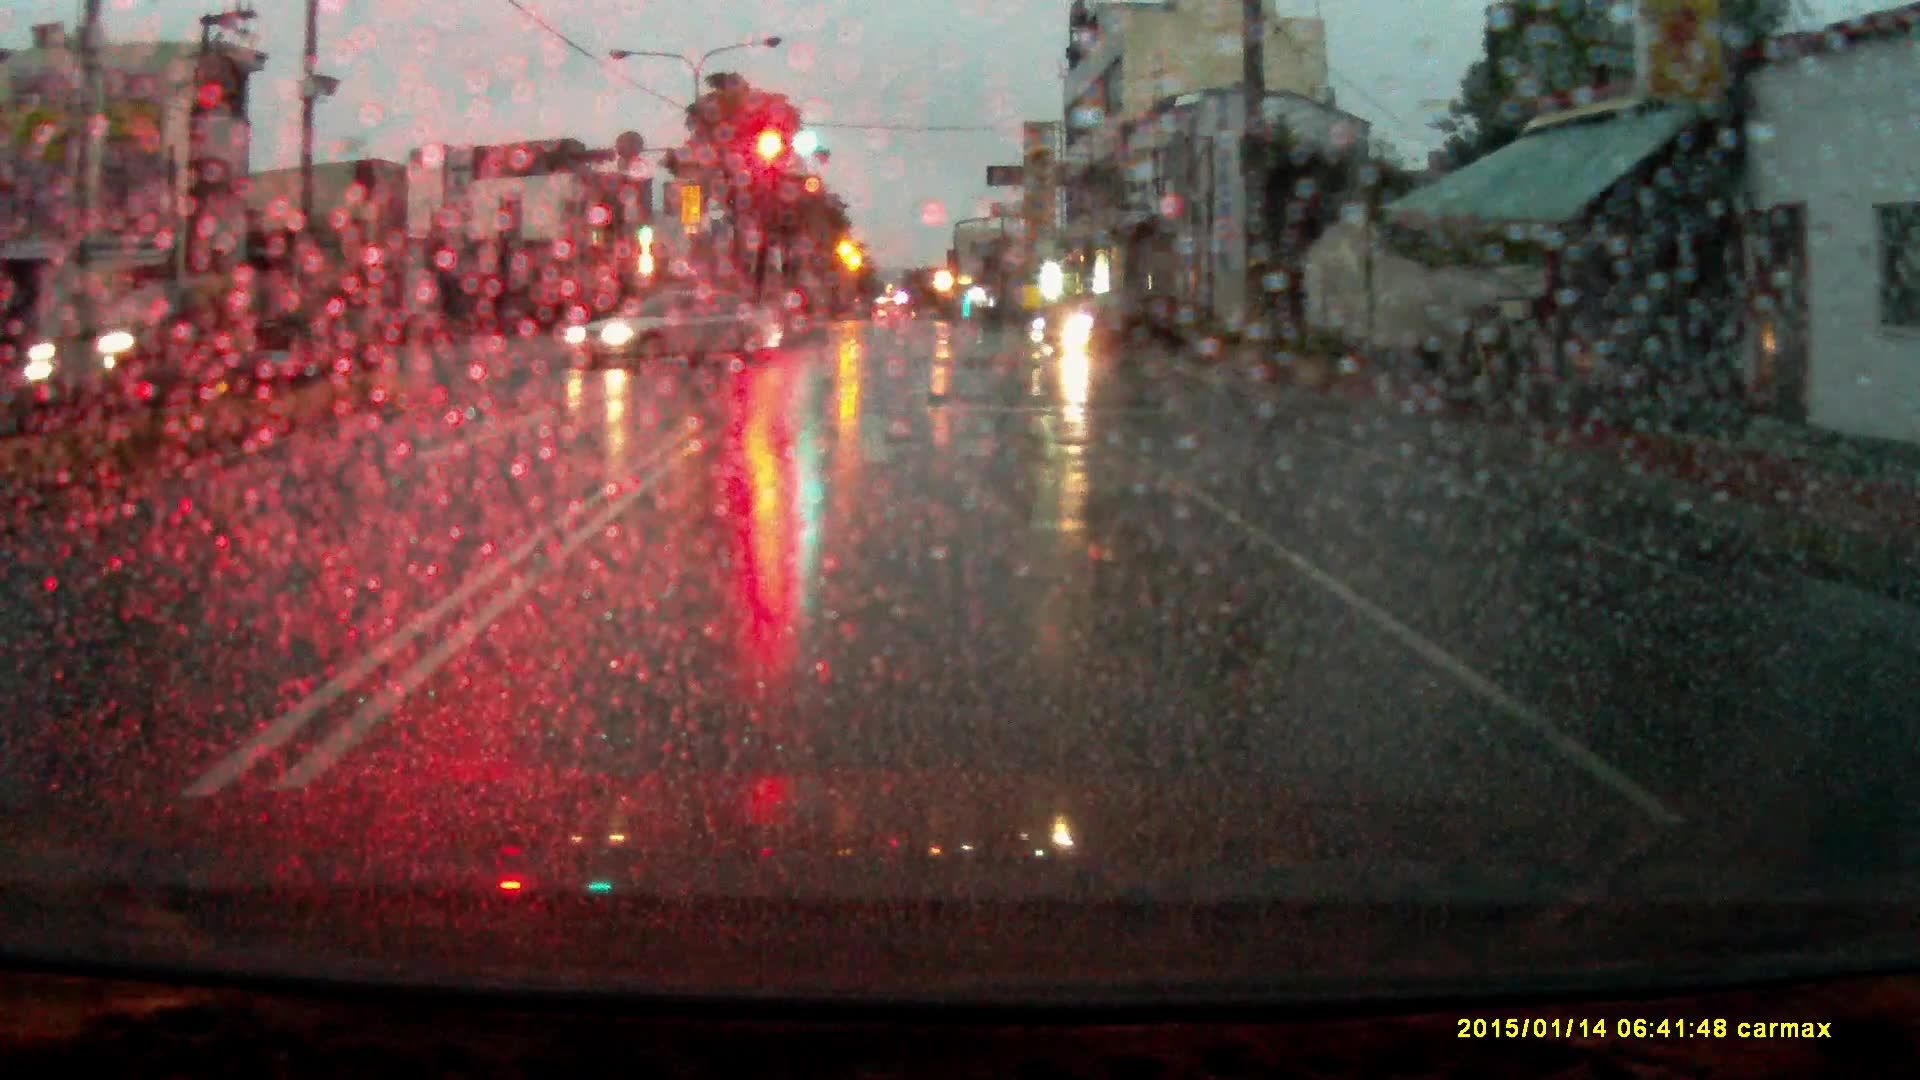vehicle: (79, 268, 342, 381), (563, 285, 787, 371), (1035, 294, 1207, 357)
